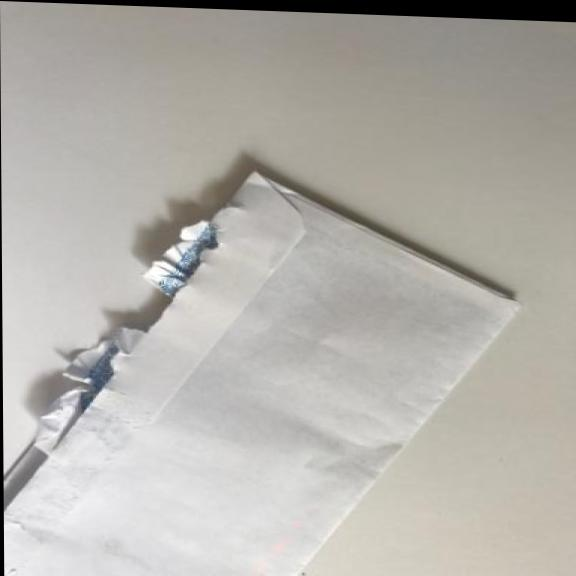Kertas: (4, 158, 526, 576)
